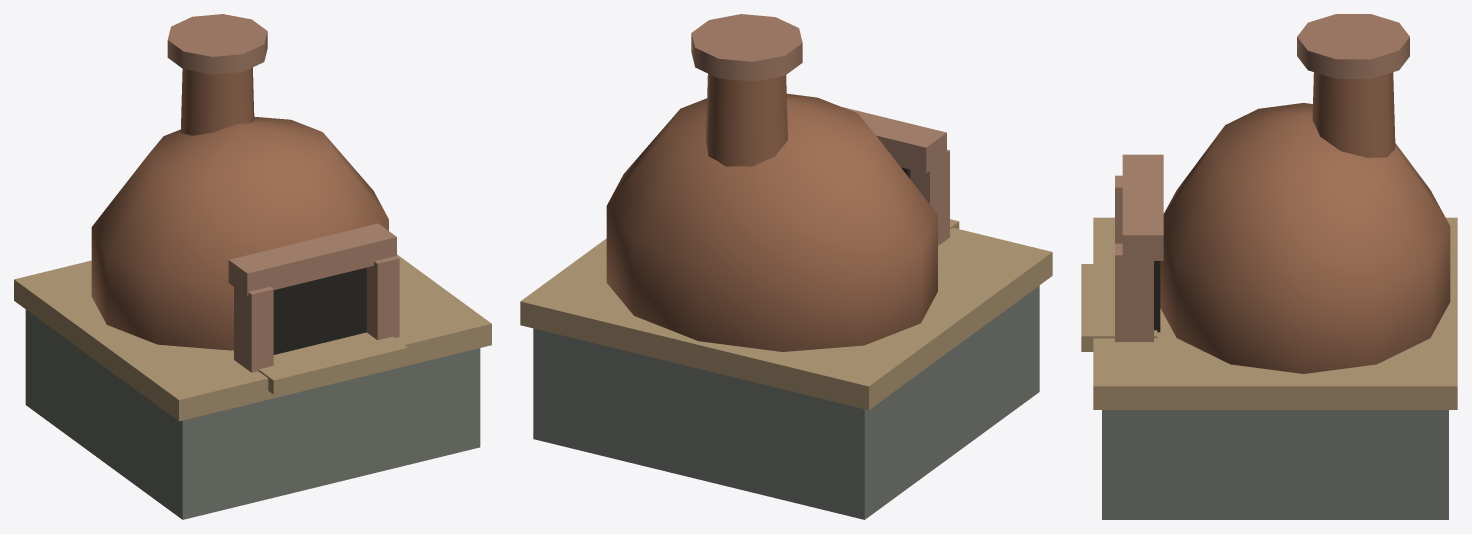
Rendered from Stations_Oven.glb.
The picture shows the model from 3 angles, left to right: view 1: azimuth 30°, elevation 25°; view 2: azimuth 150°, elevation 25°; view 3: azimuth 270°, elevation 25°; orthographic projection. The views are drawn at different scales.
Parts seen in each view (by area): view 1: _MeshInstance3D_4289, _MeshInstance3D_4291, _MeshInstance3D_4290, _MeshInstance3D_4296, _MeshInstance3D_4292, _MeshInstance3D_4293, _MeshInstance3D_4298, _MeshInstance3D_4297, _MeshInstance3D_4294, _MeshInstance3D_4295; view 2: _MeshInstance3D_4291, _MeshInstance3D_4289, _MeshInstance3D_4290, _MeshInstance3D_4297, _MeshInstance3D_4298, _MeshInstance3D_4296, _MeshInstance3D_4294; view 3: _MeshInstance3D_4291, _MeshInstance3D_4289, _MeshInstance3D_4290, _MeshInstance3D_4298, _MeshInstance3D_4297, _MeshInstance3D_4296, _MeshInstance3D_4295, _MeshInstance3D_4293, _MeshInstance3D_4294, _MeshInstance3D_4292.
Part boxes in pixels (x1,y1,x2,y2): _MeshInstance3D_4289: [25, 309, 480, 519]; _MeshInstance3D_4291: [91, 116, 388, 350]; _MeshInstance3D_4290: [14, 254, 491, 421]; _MeshInstance3D_4296: [228, 223, 396, 296]; _MeshInstance3D_4292: [273, 267, 366, 354]; _MeshInstance3D_4293: [258, 332, 407, 394]; _MeshInstance3D_4298: [167, 14, 267, 74]; _MeshInstance3D_4297: [180, 67, 254, 135]; _MeshInstance3D_4294: [234, 286, 273, 372]; _MeshInstance3D_4295: [366, 256, 399, 340]; _MeshInstance3D_4291: [606, 93, 937, 351]; _MeshInstance3D_4289: [533, 285, 1039, 519]; _MeshInstance3D_4290: [520, 227, 1052, 410]; _MeshInstance3D_4297: [706, 73, 787, 166]; _MeshInstance3D_4298: [691, 14, 802, 81]; _MeshInstance3D_4296: [842, 107, 946, 173]; _MeshInstance3D_4294: [910, 149, 949, 245]; _MeshInstance3D_4291: [1160, 103, 1450, 373]; _MeshInstance3D_4289: [1102, 410, 1448, 519]; _MeshInstance3D_4290: [1093, 217, 1457, 409]; _MeshInstance3D_4298: [1297, 14, 1409, 78]; _MeshInstance3D_4297: [1312, 72, 1395, 157]; _MeshInstance3D_4296: [1122, 154, 1163, 260]; _MeshInstance3D_4295: [1115, 243, 1153, 341]; _MeshInstance3D_4293: [1081, 264, 1157, 351]; _MeshInstance3D_4294: [1115, 175, 1122, 243]; _MeshInstance3D_4292: [1154, 261, 1160, 332].
Size of the model in its own units: 1.84 by 2.05 by 1.73.
